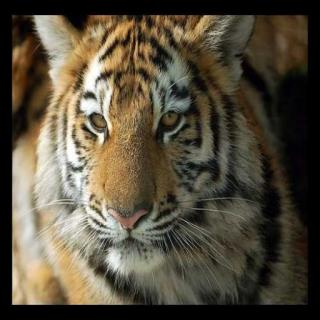Tiger: (18, 13, 308, 302)
